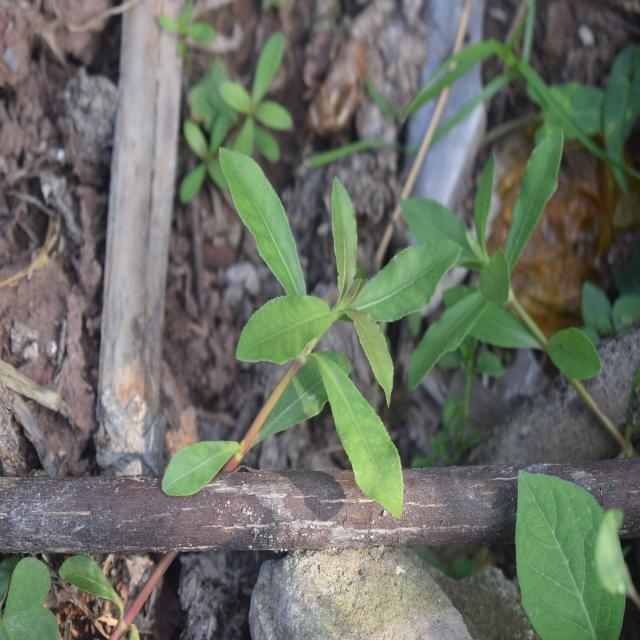Alligatorweed: (212, 144, 448, 502)
